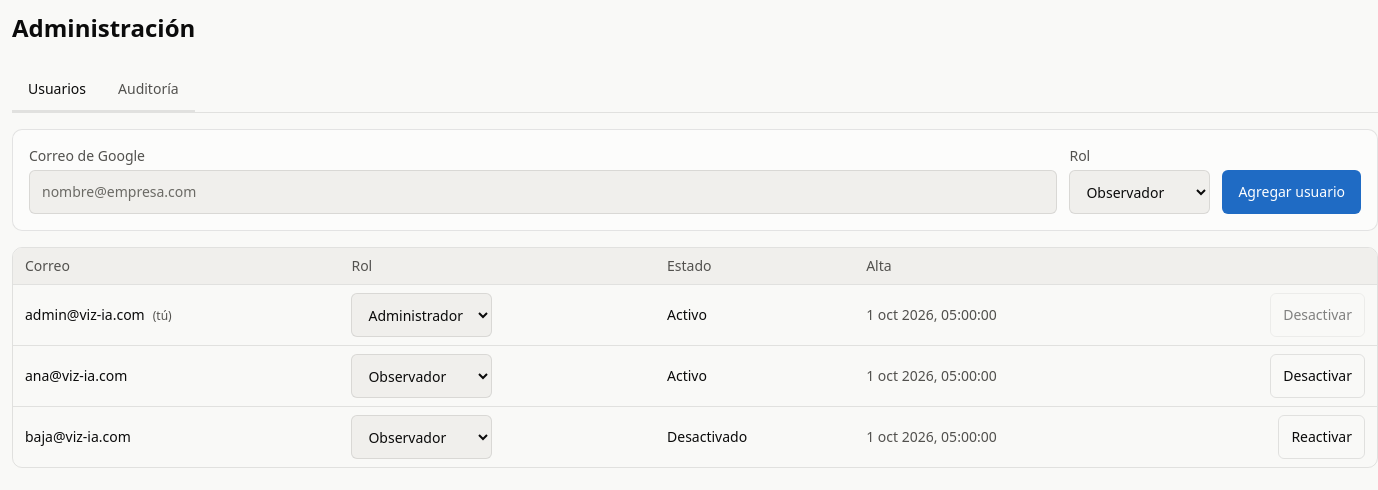
Test case: AdminPage - auditoría › error: mensaje y Reintentar
Click the tab "Auditoría".
click(148, 90)  # box 102,68 -> 195,112
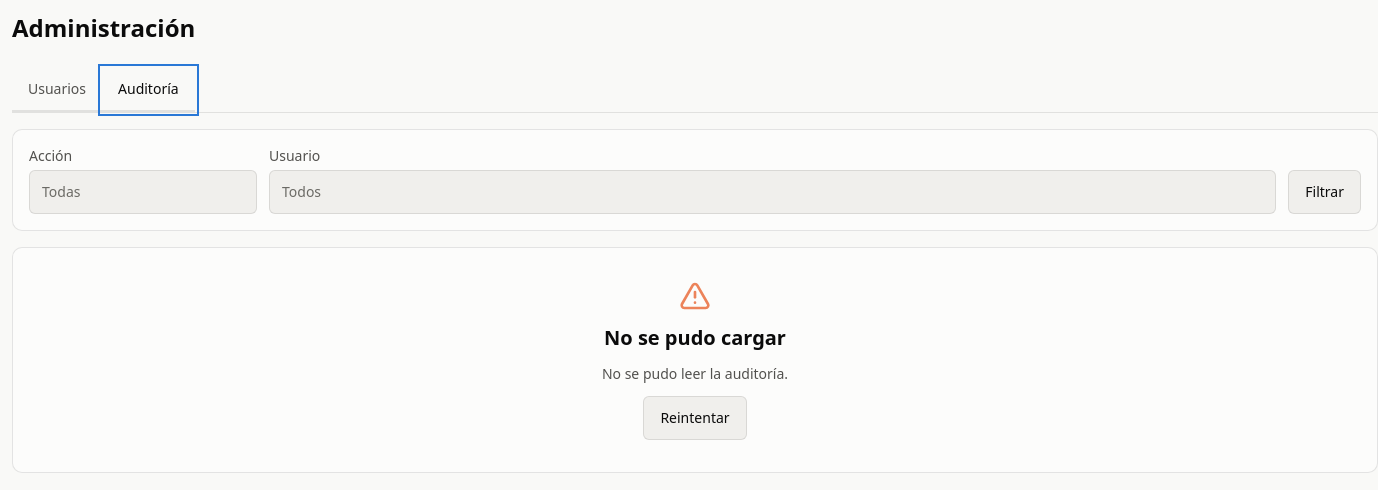
Expected: the text "No se pudo leer la auditoría." is shown, 602,364 -> 788,384
Click the button "Reintentar".
click(695, 418)  # box 643,396 -> 747,440
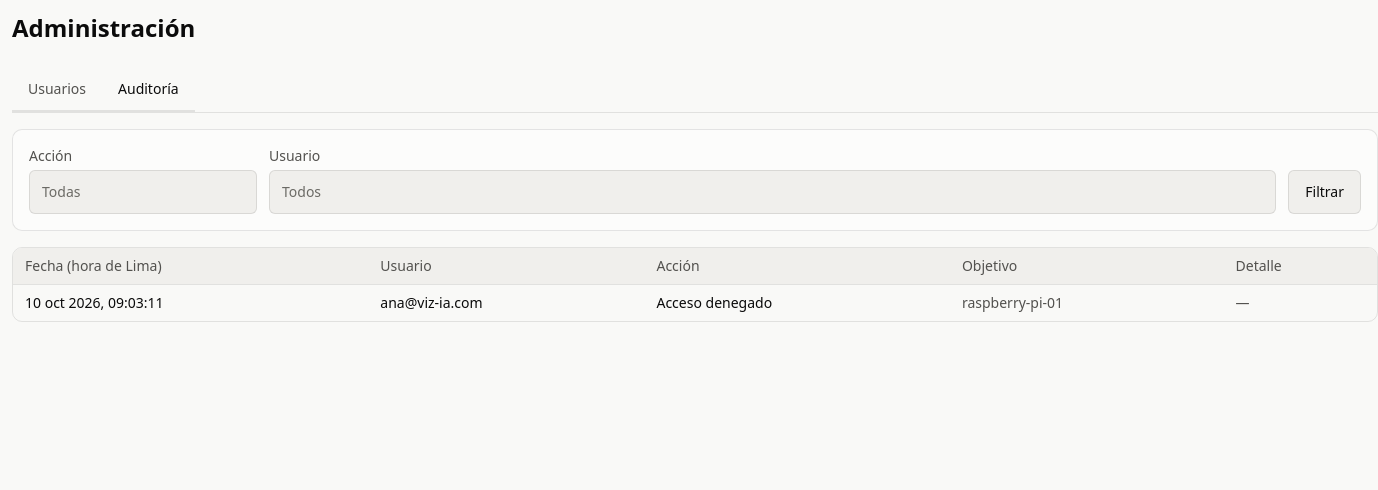
Expected: the table named "Registro de auditoría" is shown, 13,248 -> 1377,321
